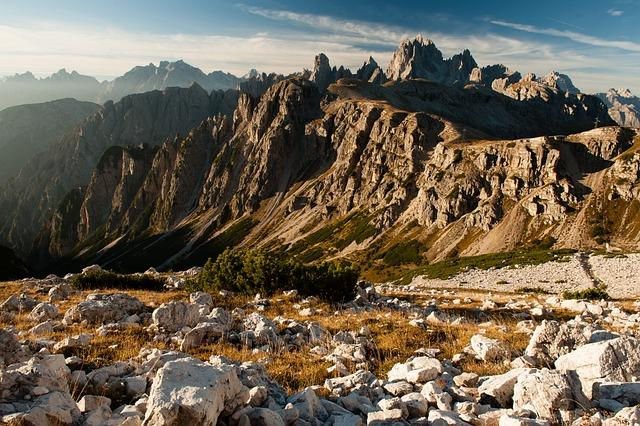Non_Gorille: (22, 16, 640, 418)
